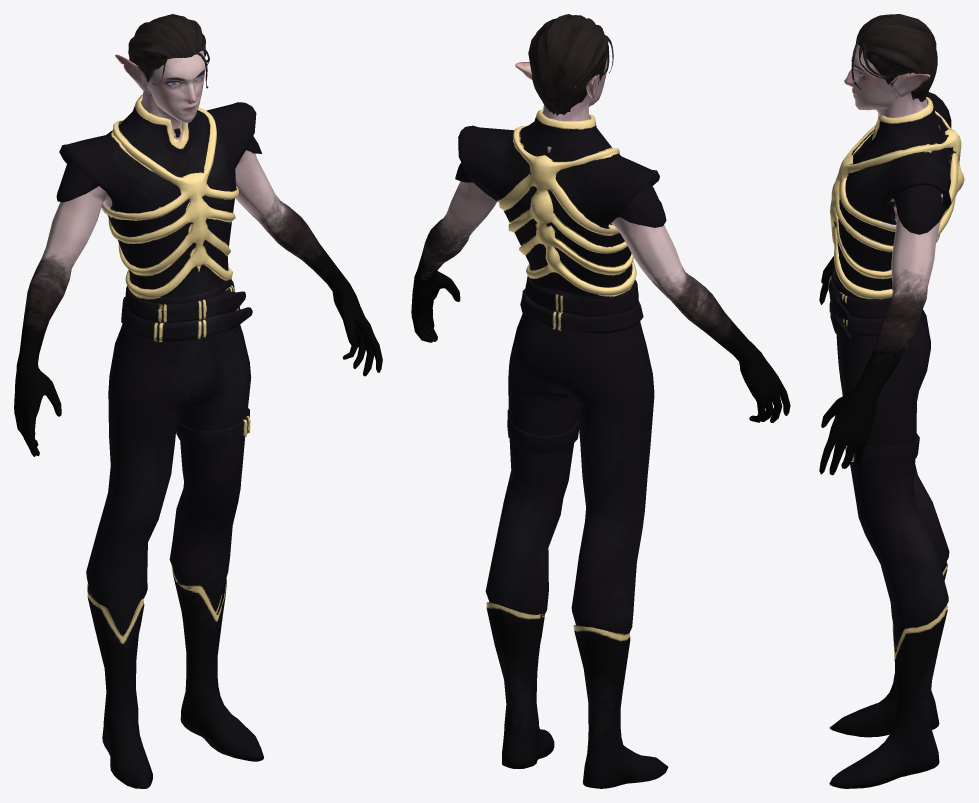
File: CharacterModel_LOD0.fbx
3 renders of one model, left to right at view 1: azimuth 30°, elevation 25°; view 2: azimuth 150°, elevation 25°; view 3: azimuth 270°, elevation 25°, orthographic. The views are drawn at different scales.
Parts seen in each view (by area): view 1: Character_LOD0; view 2: Character_LOD0; view 3: Character_LOD0.
Part boxes in pixels (x1=…): Character_LOD0: x1=14, y1=14, x2=382, y2=788; Character_LOD0: x1=411, y1=14, x2=790, y2=788; Character_LOD0: x1=819, y1=14, x2=964, y2=788.
Size of the model in its own units: 6.89 by 13.67 by 2.43.
